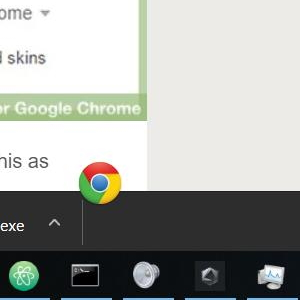chrome: (78, 161, 121, 204)
